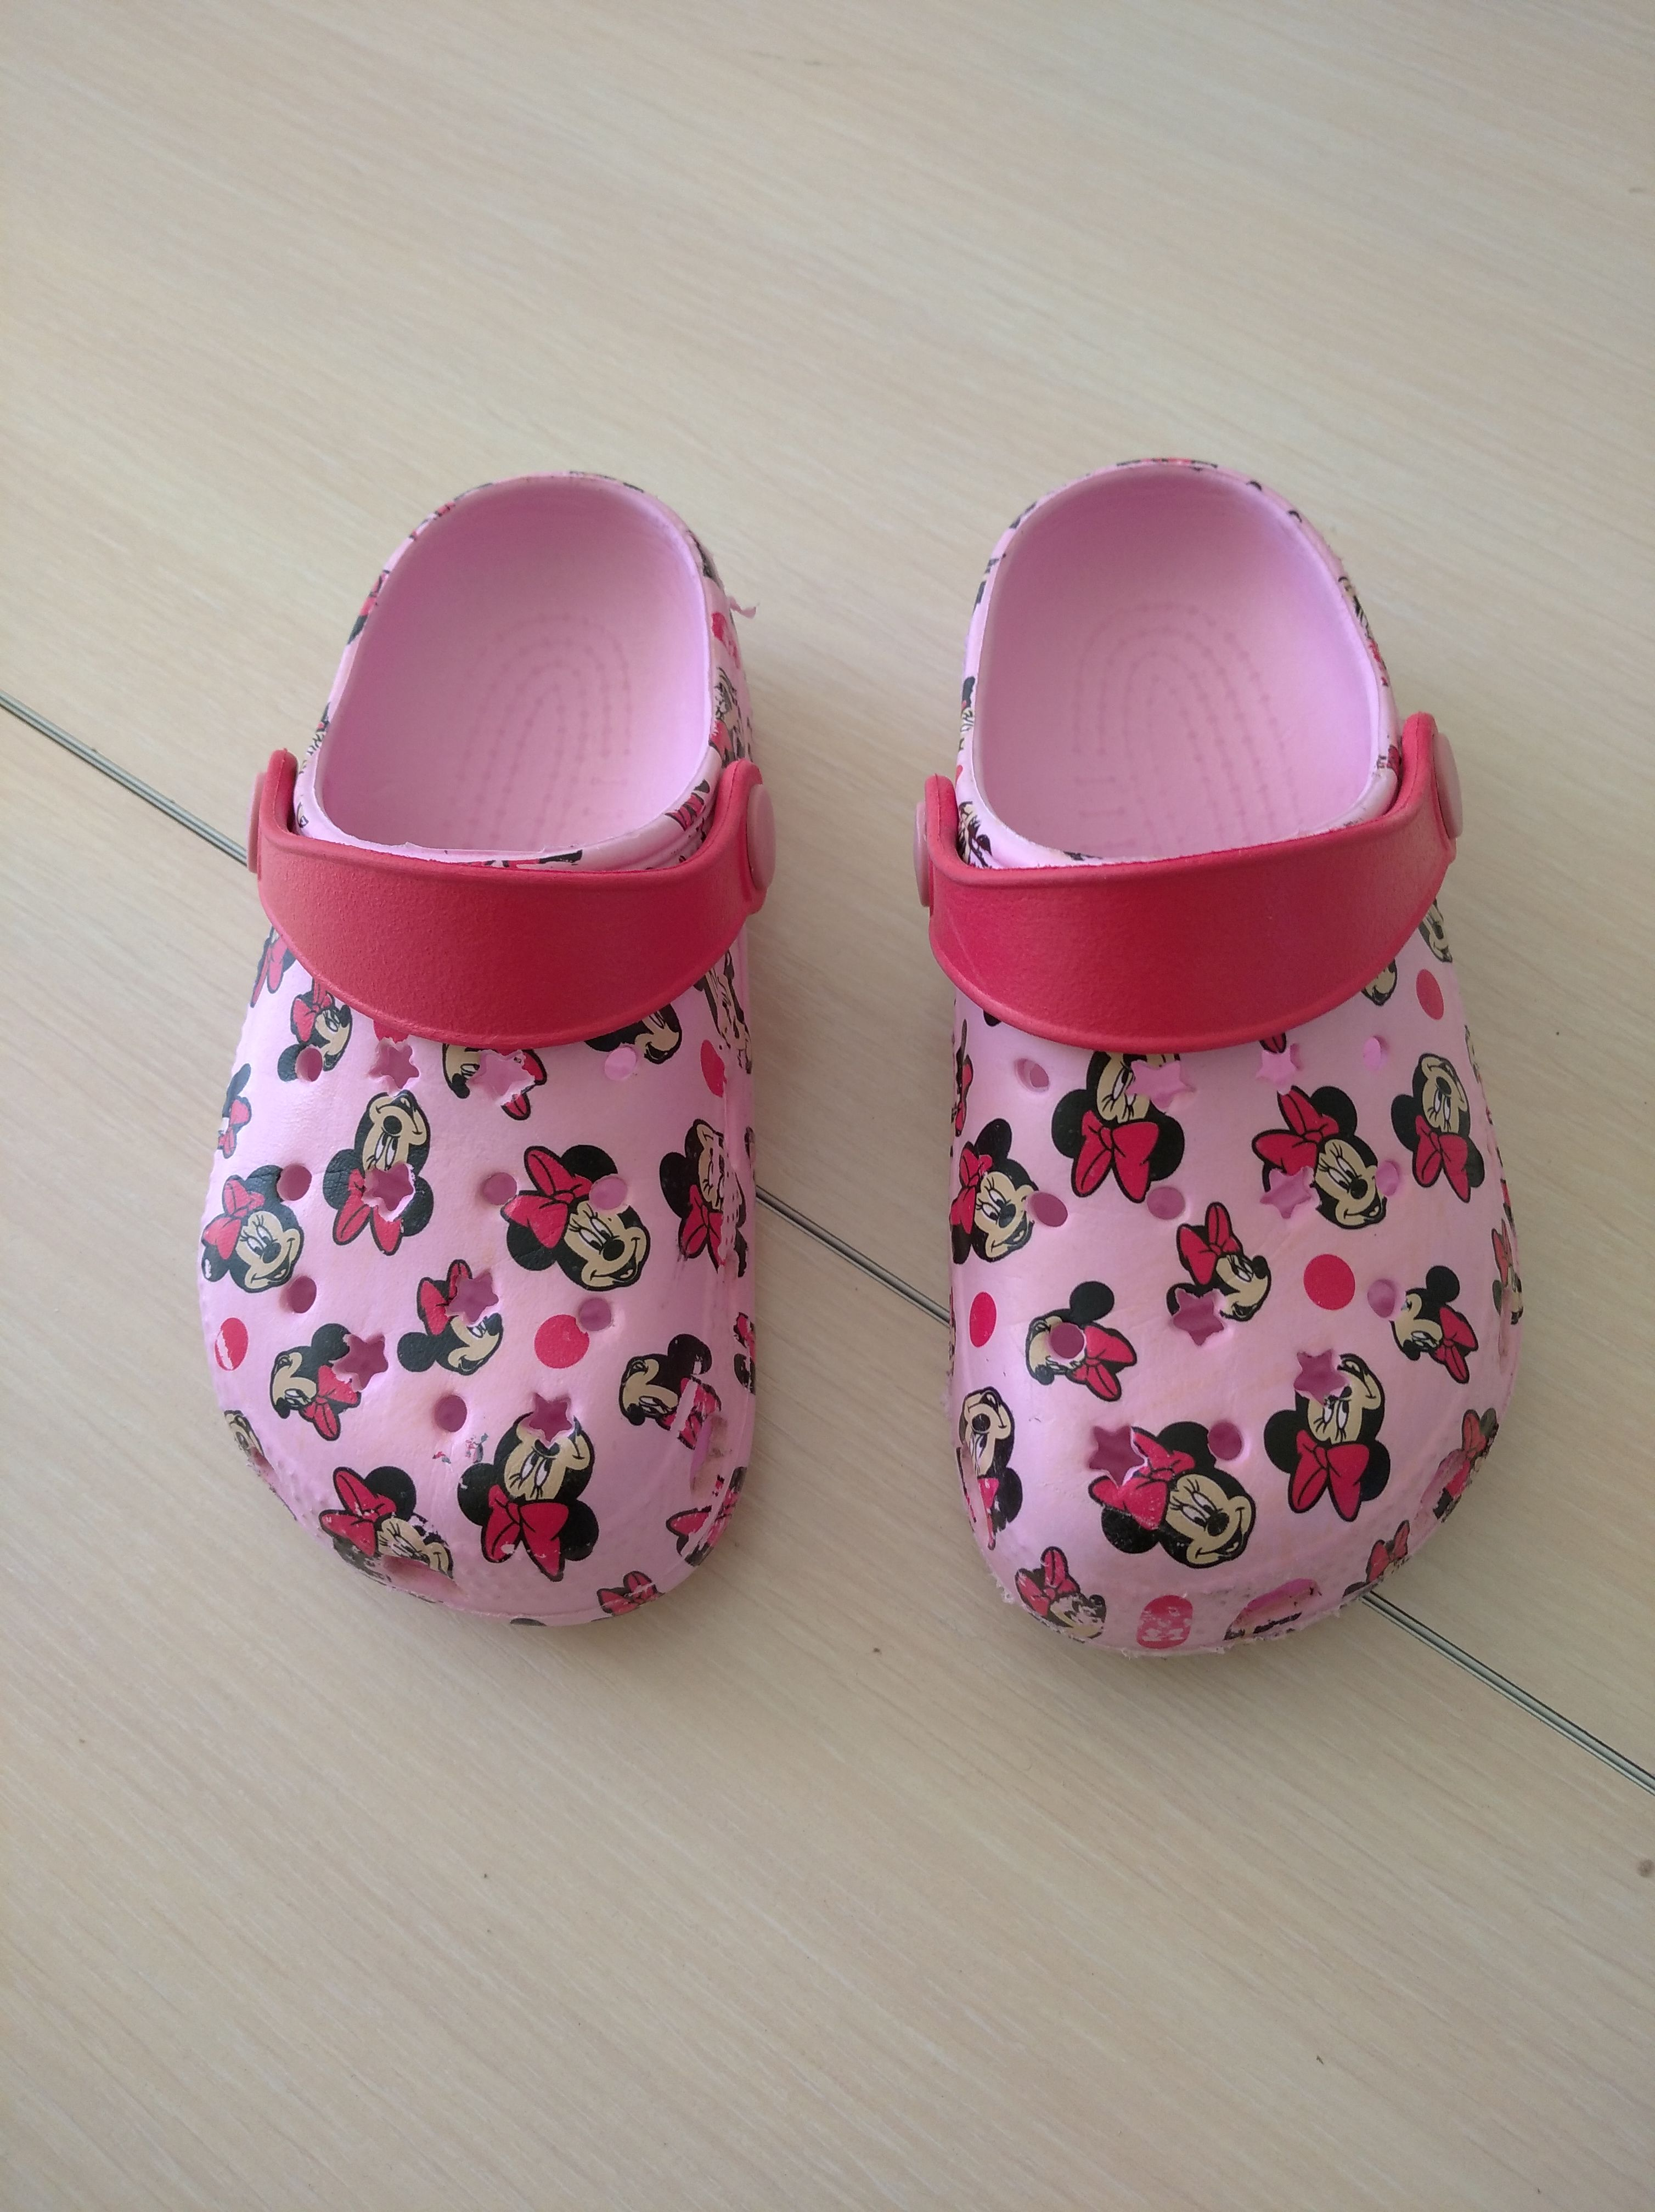clothes: (176, 441, 1497, 1647)
